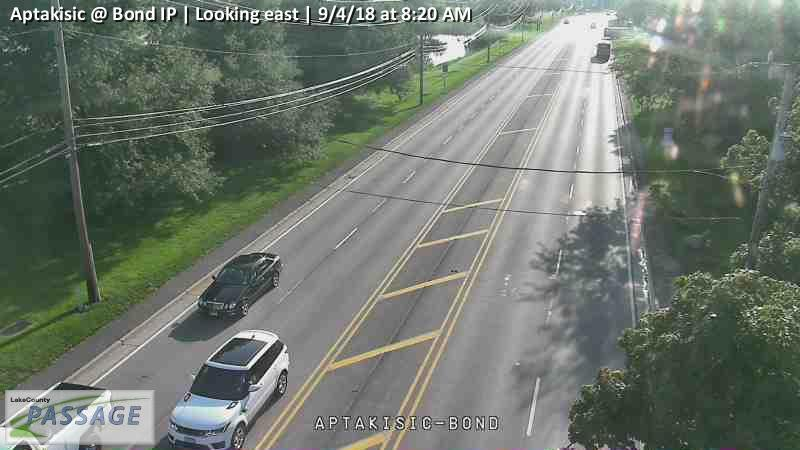SUV: (167, 329, 290, 450)
Sedan: (196, 252, 282, 320)
